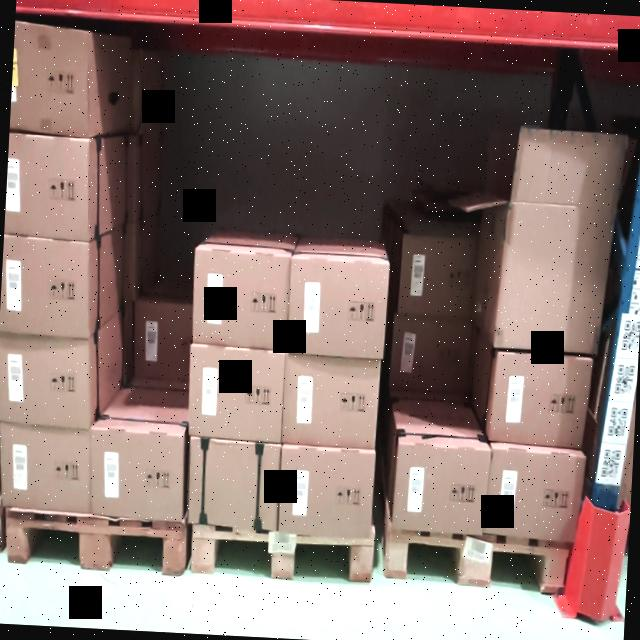box: (497, 200, 615, 352), (190, 248, 293, 354), (290, 252, 389, 356), (486, 446, 584, 549), (489, 357, 590, 449), (281, 358, 378, 452), (188, 346, 284, 439), (281, 448, 374, 542), (0, 418, 89, 516), (186, 439, 280, 528), (398, 445, 488, 532), (90, 431, 184, 514), (402, 237, 480, 320), (392, 318, 472, 397)
